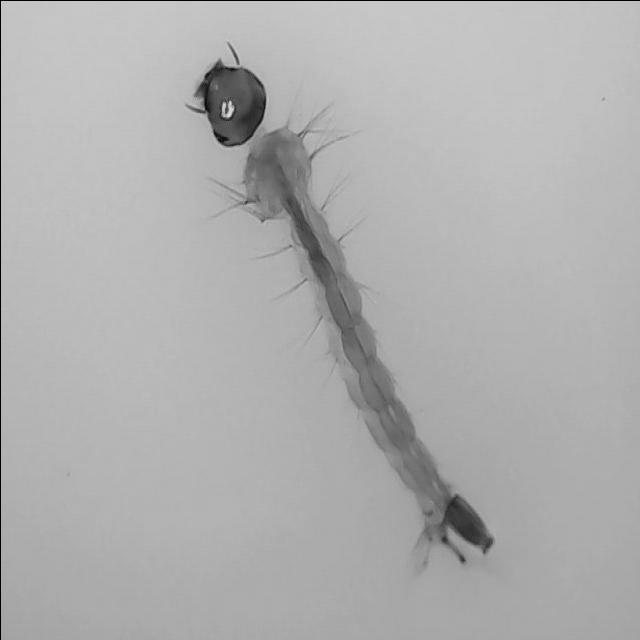larvas: (200, 59, 492, 558)
